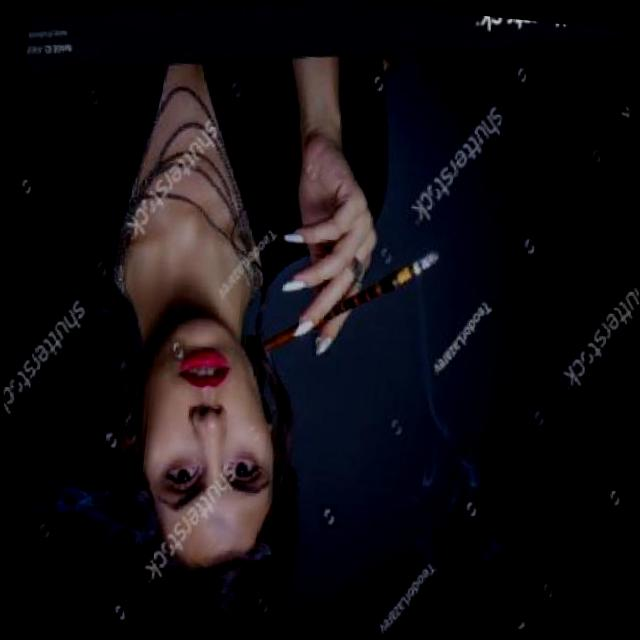smoke: (387, 240, 448, 294)
